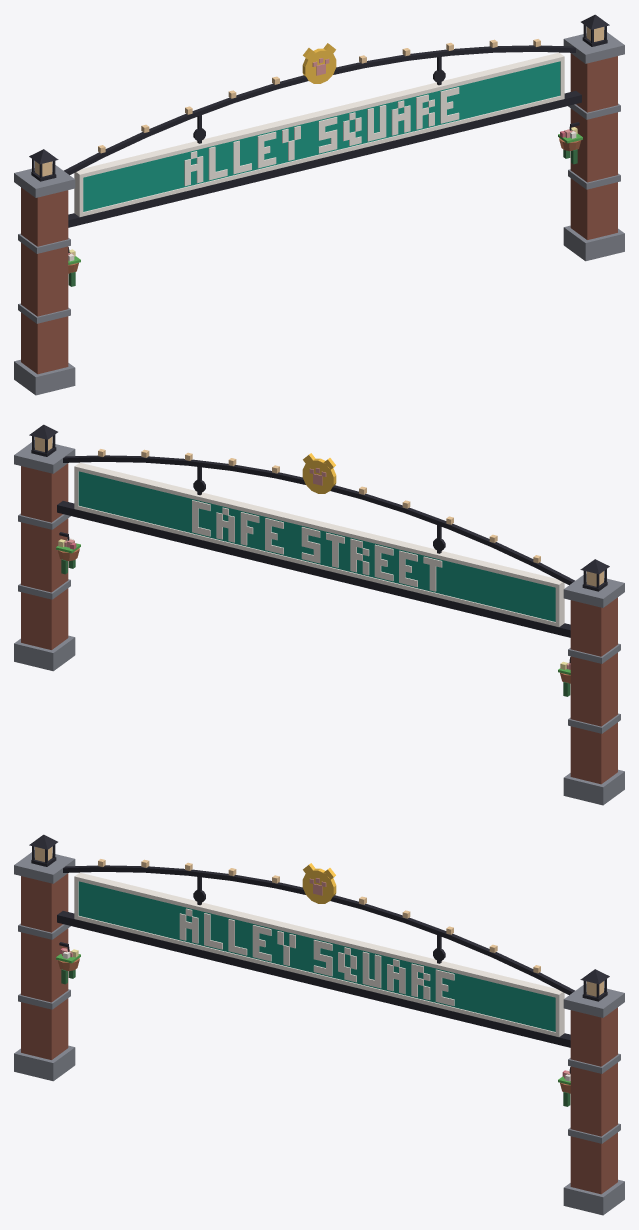
The model's file is CatCafe_Alley_ArchStreet.glb.
The picture shows the model from 3 angles, top to bottom: view 1: azimuth 30°, elevation 25°; view 2: azimuth 150°, elevation 25°; view 3: azimuth 330°, elevation 25°; orthographic projection.
Parts seen in each view (by area): view 1: CatCafe_Alley_ArchStreet, CatCafe_Alley_ArchStreet_Bulbs; view 2: CatCafe_Alley_ArchStreet, CatCafe_Alley_ArchStreet_Bulbs; view 3: CatCafe_Alley_ArchStreet, CatCafe_Alley_ArchStreet_Bulbs.
Part boxes in pixels (x1,y1,x2,y2): CatCafe_Alley_ArchStreet: (14, 14, 624, 395); CatCafe_Alley_ArchStreet_Bulbs: (98, 39, 540, 153); CatCafe_Alley_ArchStreet: (14, 424, 624, 805); CatCafe_Alley_ArchStreet_Bulbs: (98, 449, 540, 563); CatCafe_Alley_ArchStreet: (14, 834, 624, 1215); CatCafe_Alley_ArchStreet_Bulbs: (98, 859, 540, 973).
Bounding box in the file's own units: 40.6 × 17.75 × 2.6.
1 material, 1 textured.
